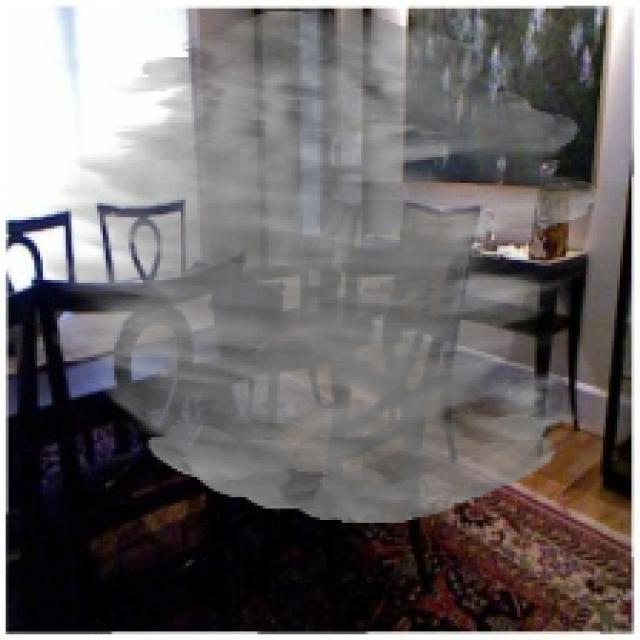Smoke: (45, 8, 600, 523)
